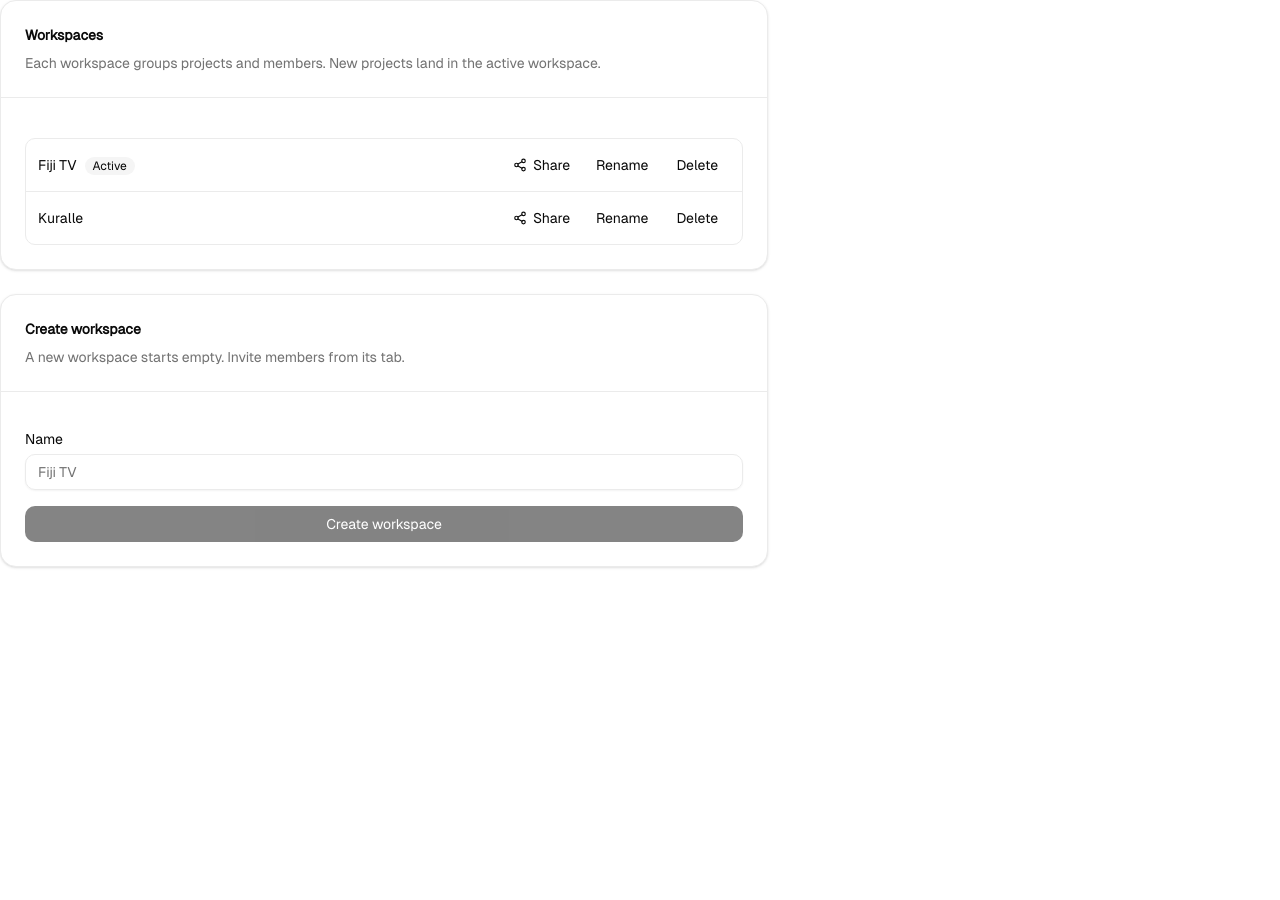
Test: Workspaces — share with client (REQ-6) › owner-only Share control creates a workspace share link
Expected: the text "Fiji TV" is shown, [38, 157, 77, 173]
Step 1. Click the button with aria-label "Share Fiji TV with a client" → coordinates (542, 165), box [503, 149, 580, 181]
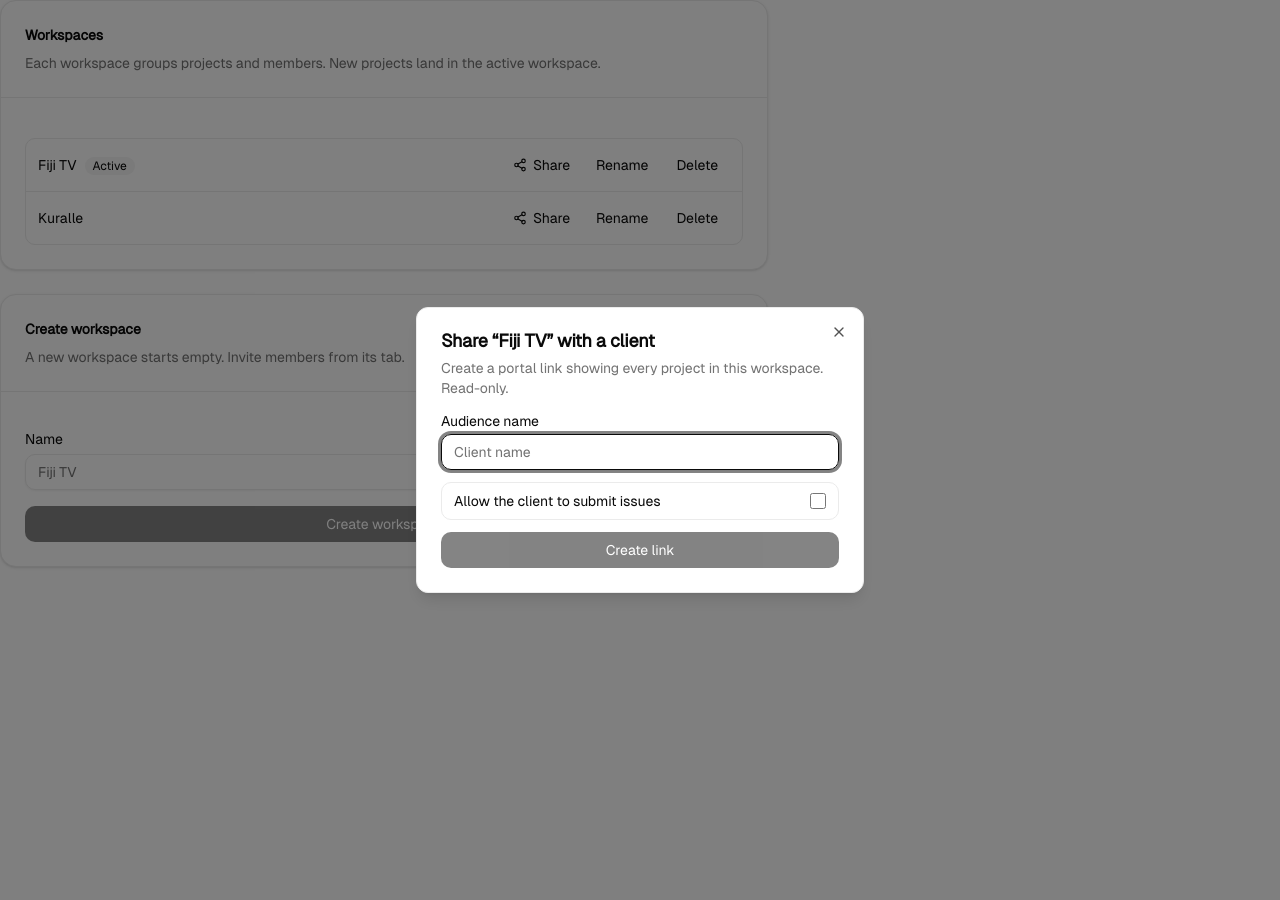
Step 2. Type "Acme Client" into the field labelled "Audience name" → coordinates (640, 452), box [441, 434, 839, 470]
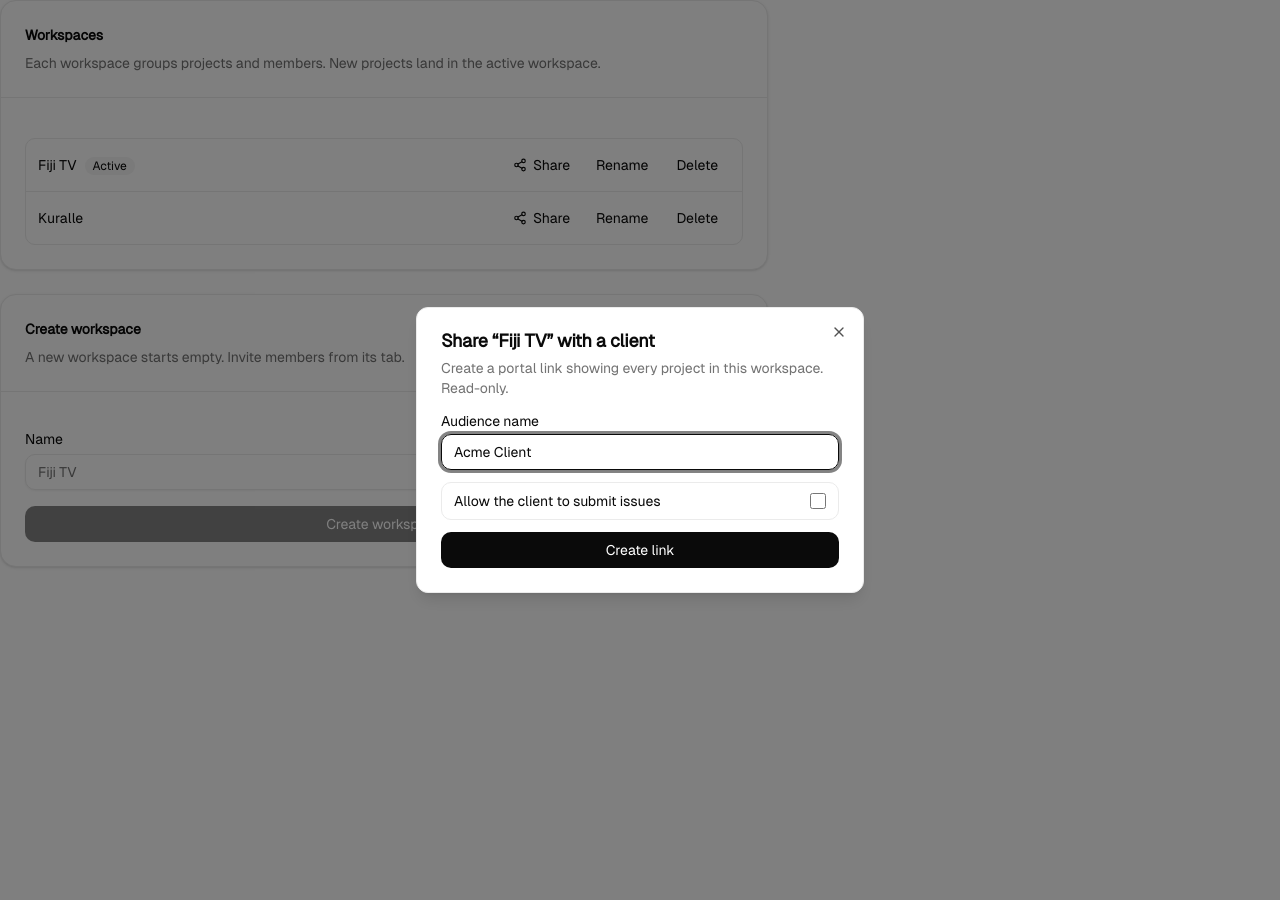
Step 3. Click the button "Create link" → coordinates (640, 550), box [441, 532, 839, 568]
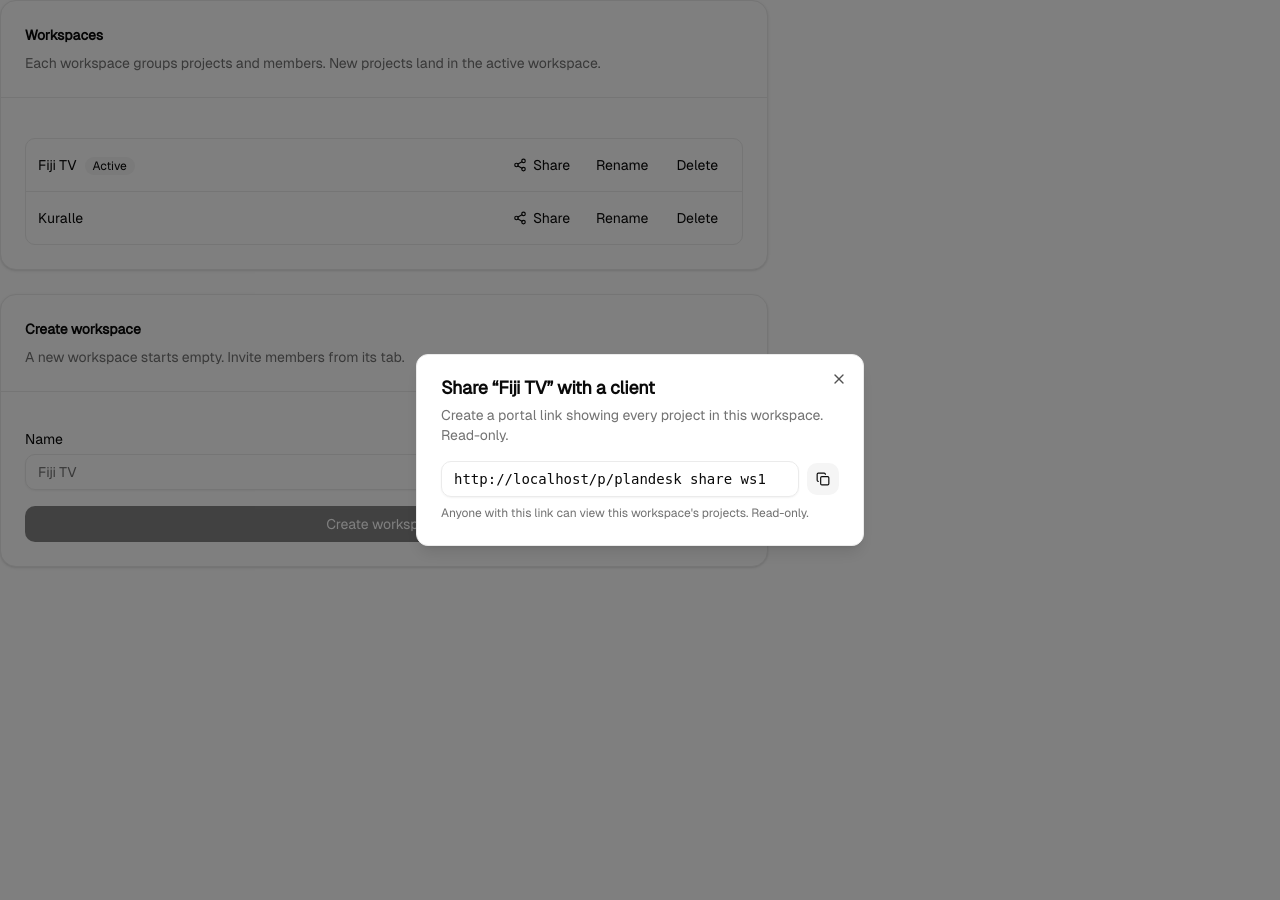
Expected: the field showing "http://localhost/p/plandesk_share_ws1" is shown, [441, 461, 799, 497]
